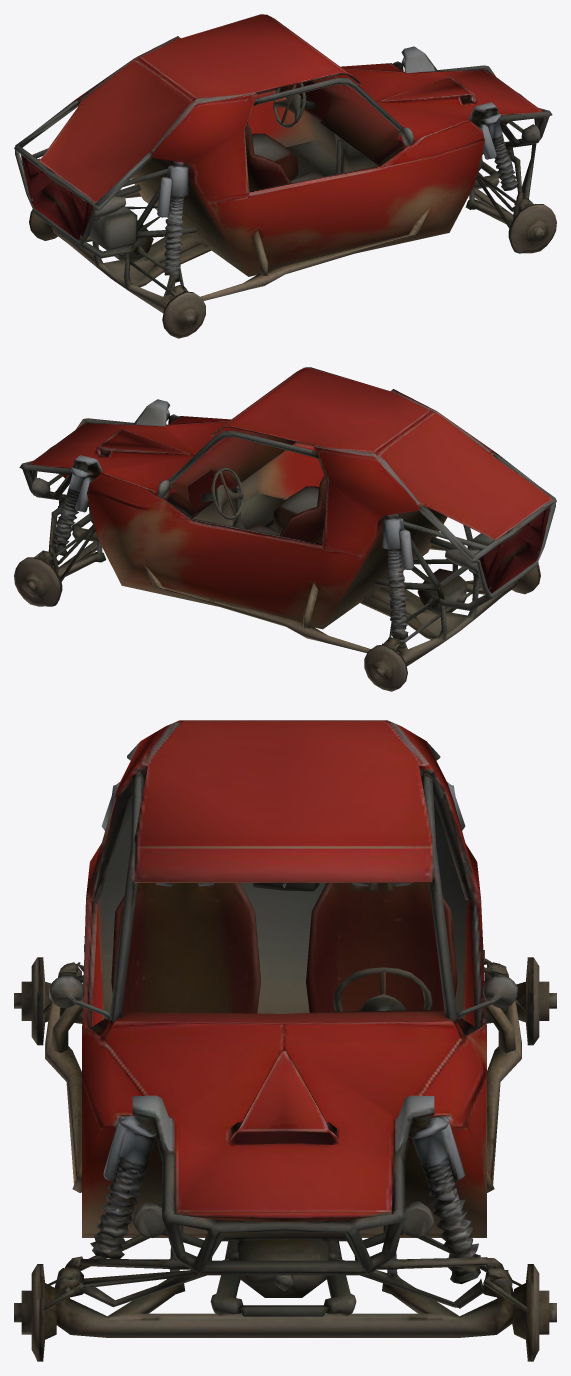
The model's file is BuggyBody.glb.
3 renders of one model, top to bottom at view 1: azimuth 30°, elevation 25°; view 2: azimuth 150°, elevation 25°; view 3: azimuth 270°, elevation 25°, orthographic. The views are drawn at different scales.
Visible parts, largest first — view 1: tripo_node_68dd6bf9-89d0-43cd-b186-e43d2c57545e; view 2: tripo_node_68dd6bf9-89d0-43cd-b186-e43d2c57545e; view 3: tripo_node_68dd6bf9-89d0-43cd-b186-e43d2c57545e.
Boxes of the visible parts, bbox=[...] form: tripo_node_68dd6bf9-89d0-43cd-b186-e43d2c57545e: bbox=[14, 14, 556, 338]; tripo_node_68dd6bf9-89d0-43cd-b186-e43d2c57545e: bbox=[14, 367, 556, 691]; tripo_node_68dd6bf9-89d0-43cd-b186-e43d2c57545e: bbox=[14, 720, 556, 1361].
Size of the model in its own units: 0.998 by 0.4082 by 0.5449.
Materials: 1 (1 with a texture image).
